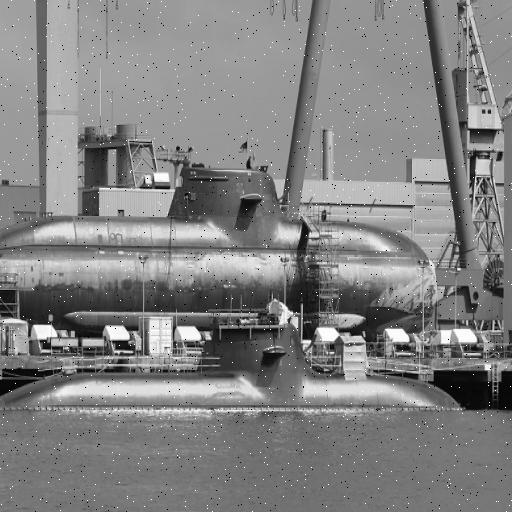submarine: (1, 176, 462, 329), (1, 327, 494, 419)
